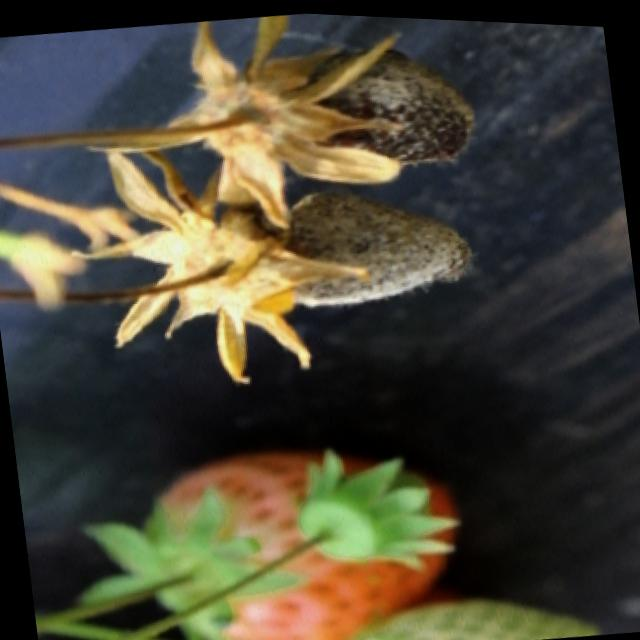Gray Mold: (71, 143, 472, 386), (163, 12, 474, 232)
